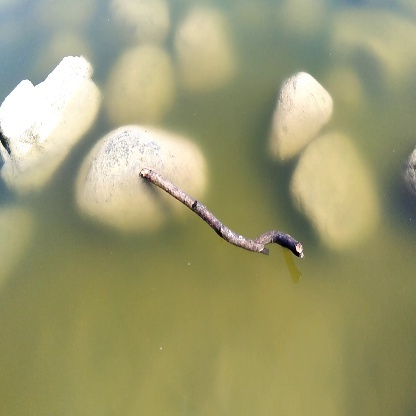branch: (137, 162, 315, 268)
